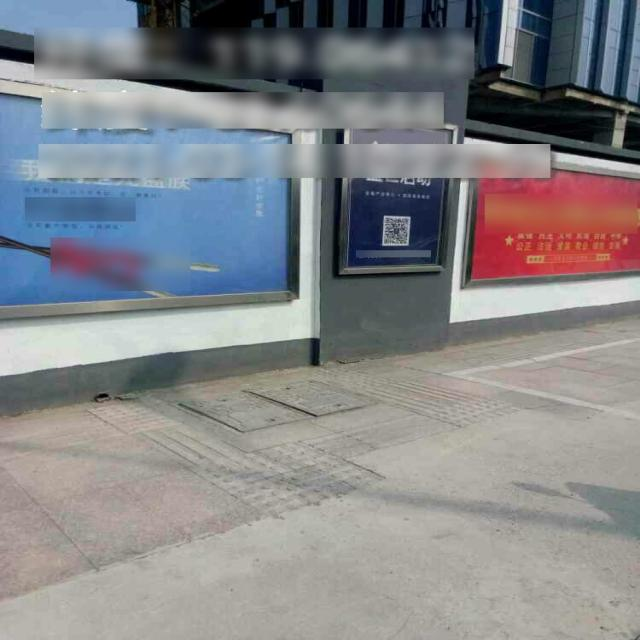Good: (172, 376, 378, 438)
